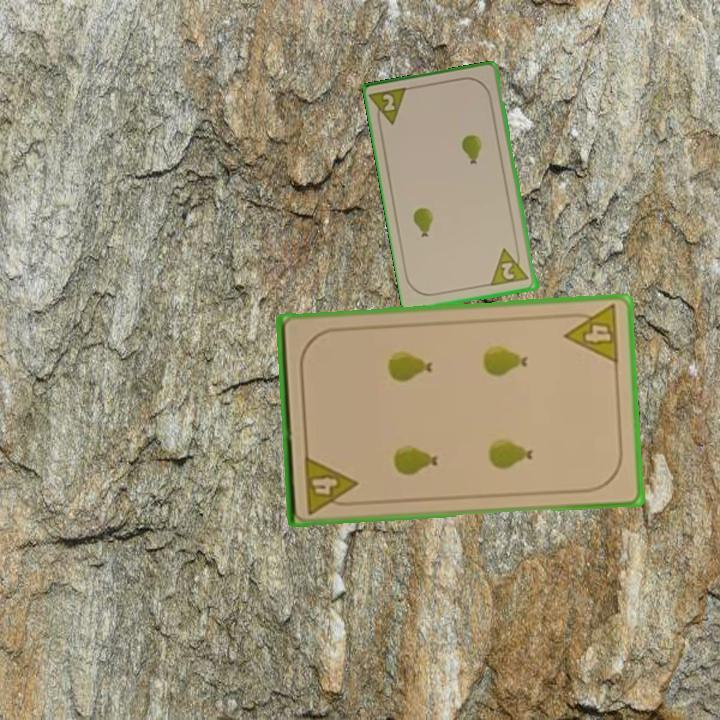2p: (368, 84, 412, 131), (488, 243, 532, 289)
4p: (560, 301, 622, 367), (300, 451, 360, 517)
